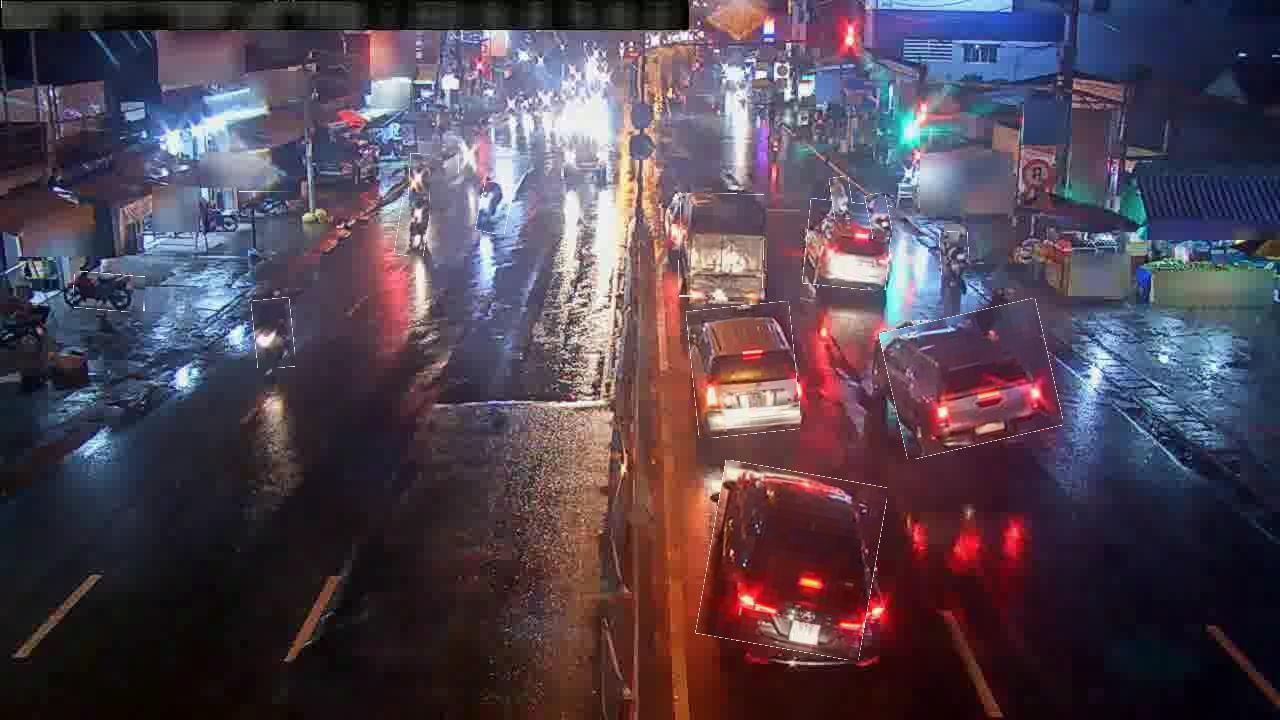8: (679, 194, 765, 298)
container: (702, 467, 881, 655), (886, 306, 1058, 452), (689, 304, 798, 437), (804, 200, 891, 289)
motorbike: (253, 298, 295, 369), (74, 272, 146, 312), (396, 196, 429, 257), (478, 182, 511, 234), (940, 232, 970, 276), (238, 191, 294, 214), (867, 194, 891, 240), (409, 154, 431, 201), (831, 176, 852, 220), (459, 136, 477, 180)
